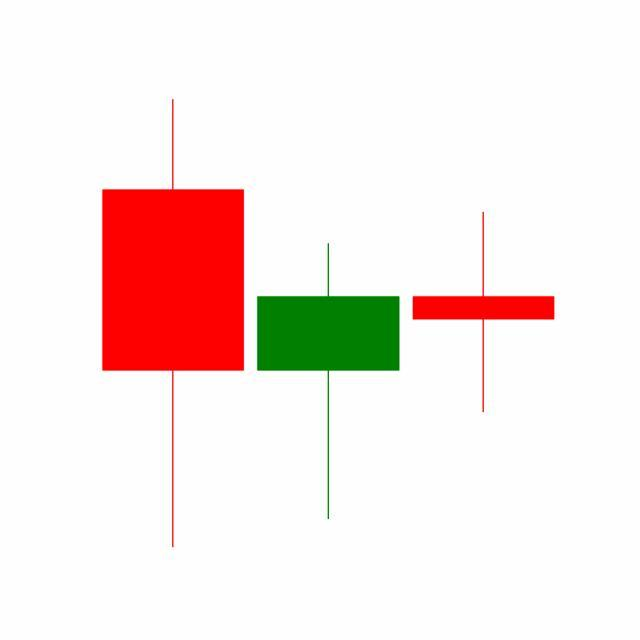Spinning Top: (406, 210, 562, 415)
